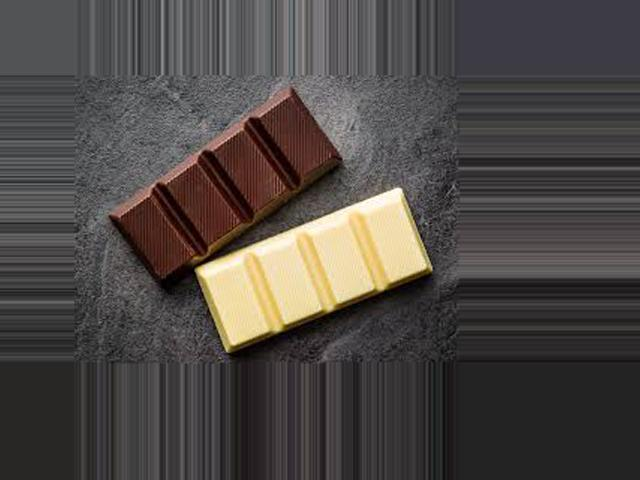chocolate: (110, 93, 445, 348)
